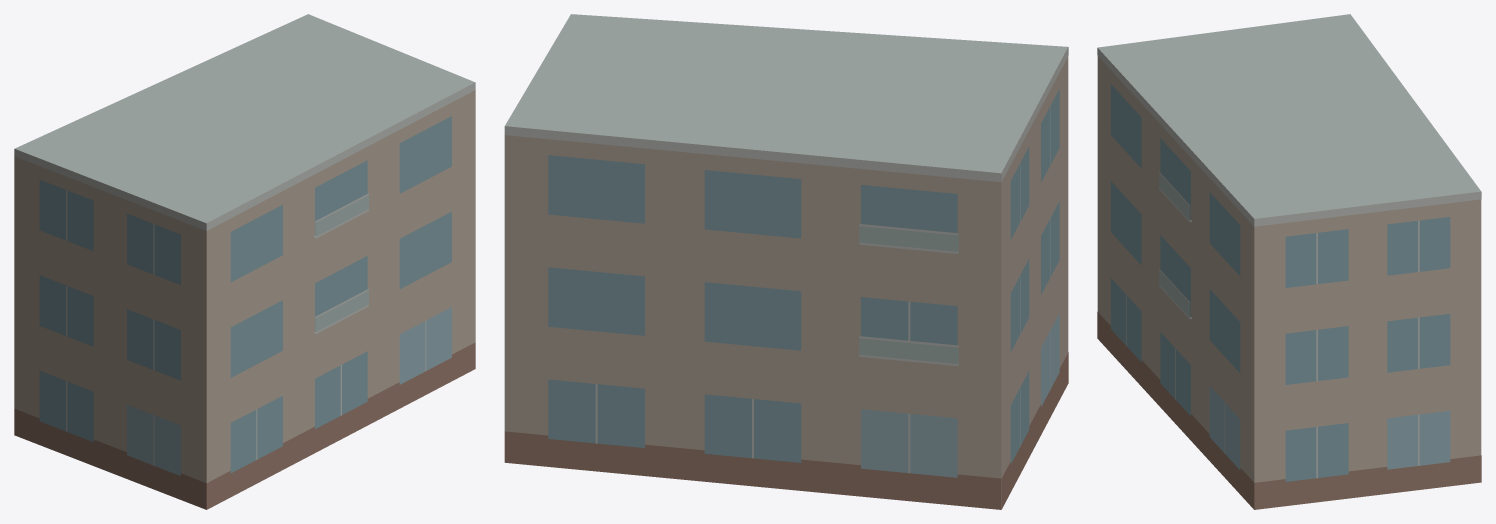
The model's file is survey-upis-33038445.glb.
The picture shows the model from 3 angles, left to right: view 1: azimuth 30°, elevation 25°; view 2: azimuth 150°, elevation 25°; view 3: azimuth 270°, elevation 25°; orthographic projection. The views are drawn at different scales.
Visible parts, largest first — view 1: survey-upis-33038445.tmp; view 2: survey-upis-33038445.tmp; view 3: survey-upis-33038445.tmp.
Part boxes in pixels (x1,y1,x2,y2): survey-upis-33038445.tmp: [14, 14, 475, 509]; survey-upis-33038445.tmp: [504, 14, 1068, 509]; survey-upis-33038445.tmp: [1097, 14, 1481, 509].
Size of the model in its own units: 13.84 by 9.15 by 10.96.
